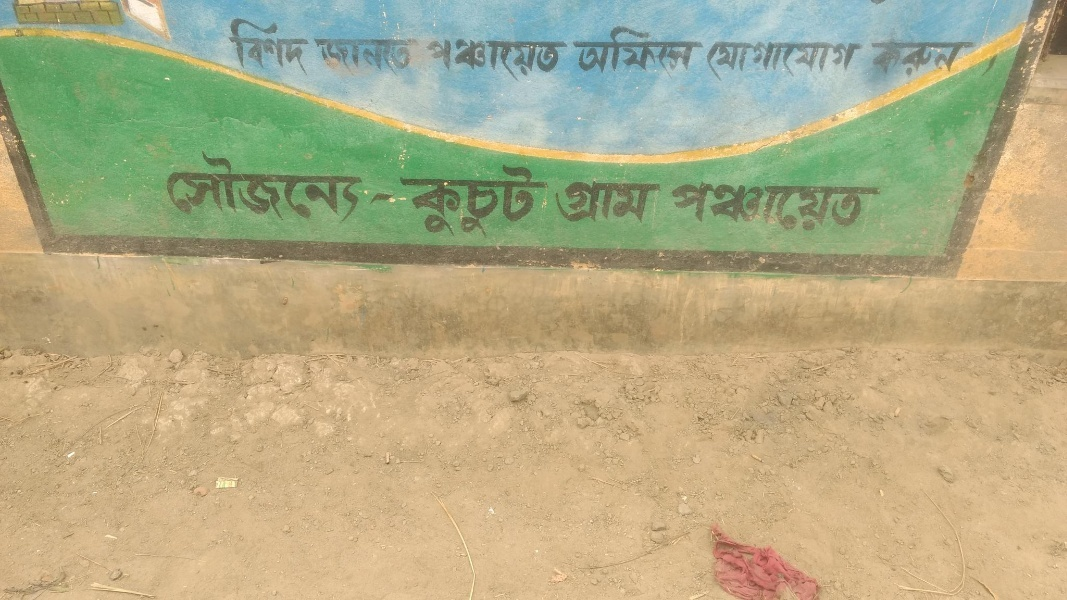text: (385, 147, 401, 227), (177, 147, 192, 227), (193, 147, 208, 227), (209, 147, 224, 227), (225, 147, 240, 227), (241, 147, 256, 227), (257, 147, 272, 227), (273, 147, 288, 227), (289, 147, 304, 227), (305, 147, 320, 227), (321, 147, 336, 227), (337, 147, 352, 227), (353, 147, 368, 227), (369, 147, 384, 227), (401, 161, 416, 240), (417, 161, 432, 240), (433, 161, 448, 240), (449, 161, 464, 240), (465, 161, 480, 240), (481, 161, 496, 240), (497, 161, 512, 240), (513, 161, 528, 240), (529, 161, 544, 240), (162, 147, 176, 227), (225, 18, 240, 78), (241, 18, 256, 78), (257, 18, 272, 78), (273, 18, 288, 78), (289, 18, 304, 78), (673, 178, 688, 237), (689, 178, 704, 237), (705, 178, 720, 237), (721, 178, 736, 237), (737, 178, 752, 237), (753, 178, 768, 237), (769, 178, 784, 237), (785, 178, 800, 237), (801, 178, 816, 237), (817, 178, 832, 237), (833, 178, 848, 237), (849, 178, 864, 237), (865, 178, 880, 237), (577, 27, 592, 81), (593, 27, 608, 81), (609, 27, 624, 81), (625, 27, 640, 81), (641, 27, 656, 81), (657, 27, 672, 81), (673, 27, 688, 81), (689, 27, 704, 81), (433, 33, 448, 84), (449, 33, 464, 84), (465, 33, 480, 84), (481, 33, 496, 84), (497, 33, 512, 84), (513, 33, 528, 84), (529, 33, 544, 84), (545, 33, 560, 84), (321, 29, 336, 79), (337, 29, 352, 79), (353, 29, 368, 79), (369, 29, 384, 79), (385, 29, 400, 79), (401, 29, 416, 79), (305, 18, 317, 78), (561, 179, 576, 224), (577, 179, 592, 224), (593, 179, 608, 224), (609, 179, 624, 224), (625, 179, 640, 224), (641, 179, 656, 224), (721, 40, 736, 84), (737, 40, 752, 84), (753, 40, 768, 84), (769, 40, 784, 84), (785, 40, 800, 84), (801, 40, 816, 84), (817, 40, 832, 84), (833, 40, 848, 84), (849, 40, 864, 84), (881, 39, 896, 83), (897, 39, 912, 83), (913, 39, 928, 83), (929, 39, 944, 83), (945, 39, 960, 83), (961, 39, 976, 83), (977, 39, 992, 83), (706, 40, 720, 84), (545, 161, 551, 240), (561, 33, 570, 84), (871, 39, 880, 83), (993, 39, 1002, 83), (657, 179, 665, 224), (314, 29, 320, 79), (554, 179, 560, 224), (427, 33, 432, 84), (881, 178, 884, 237), (573, 27, 576, 81), (398, 161, 400, 240), (417, 29, 420, 79), (705, 27, 707, 81), (223, 18, 224, 78)
